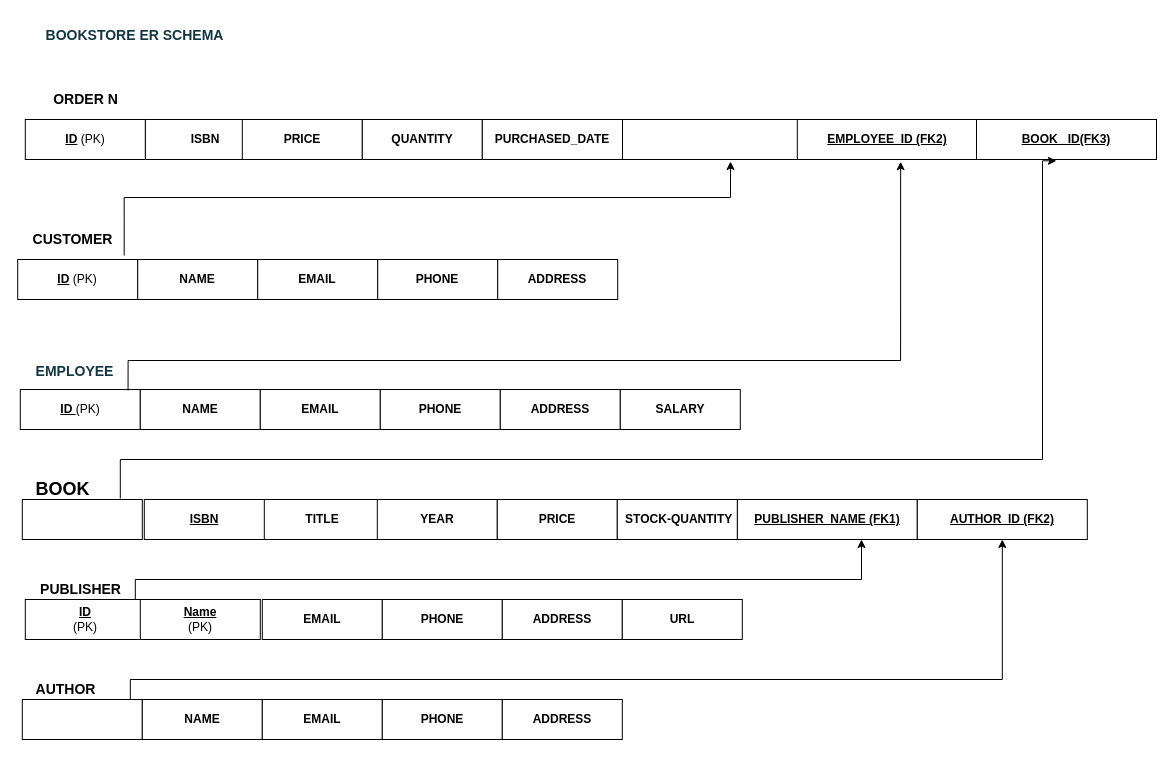
This 1174x757 diagram has some shape labels left out. Each missing label, with the centre of its shape:
AUTHOR_ID (PK): [81,719]
CUSTOMER_ID (FK1): [712,139]
ID (PK ): [81,519]
